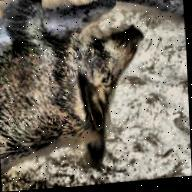boar: (0, 0, 192, 184)
